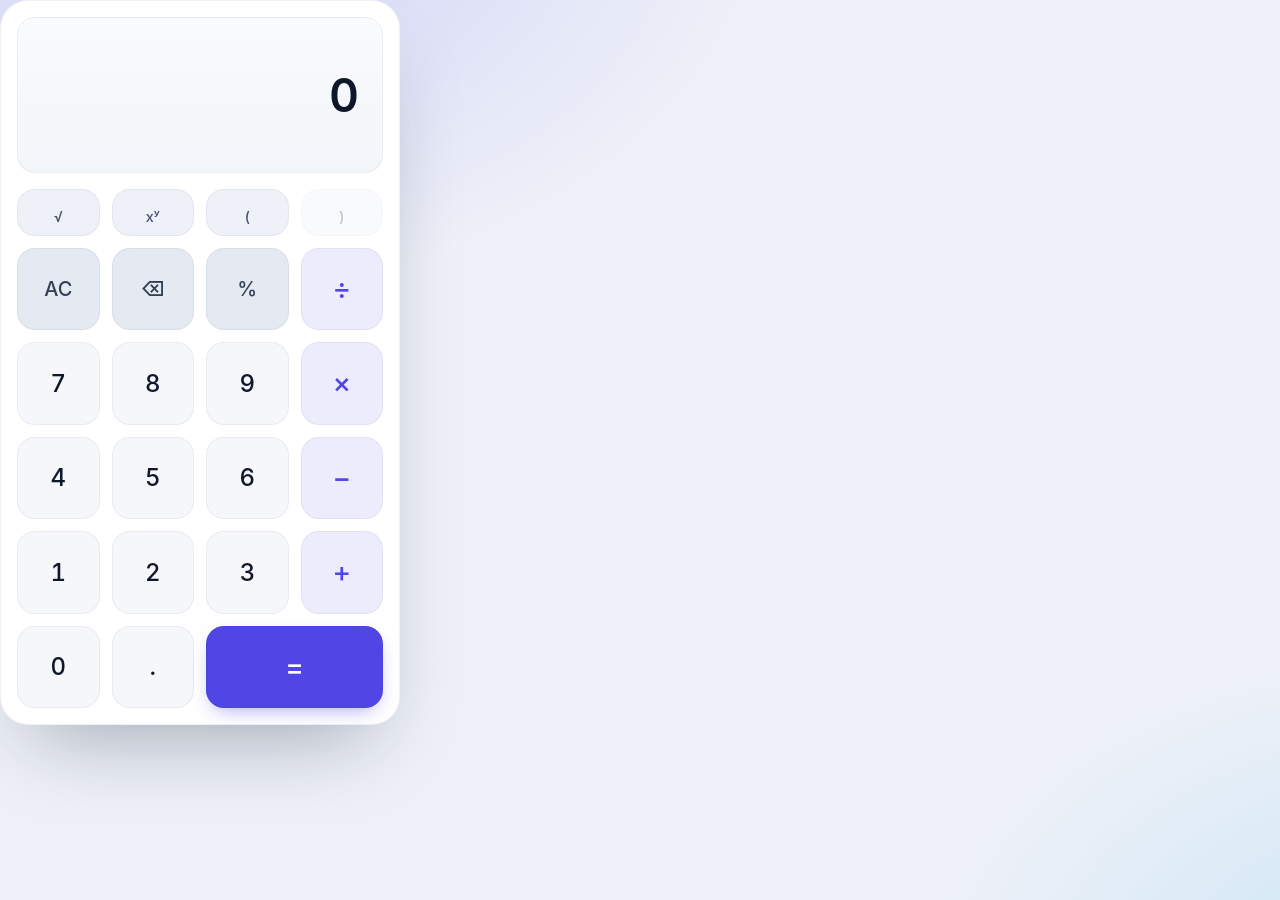
Calculator › composes an expression from key presses and evaluates it
Click the button with test id "digit-2".
click(153, 572)  # box [112,531,194,614]
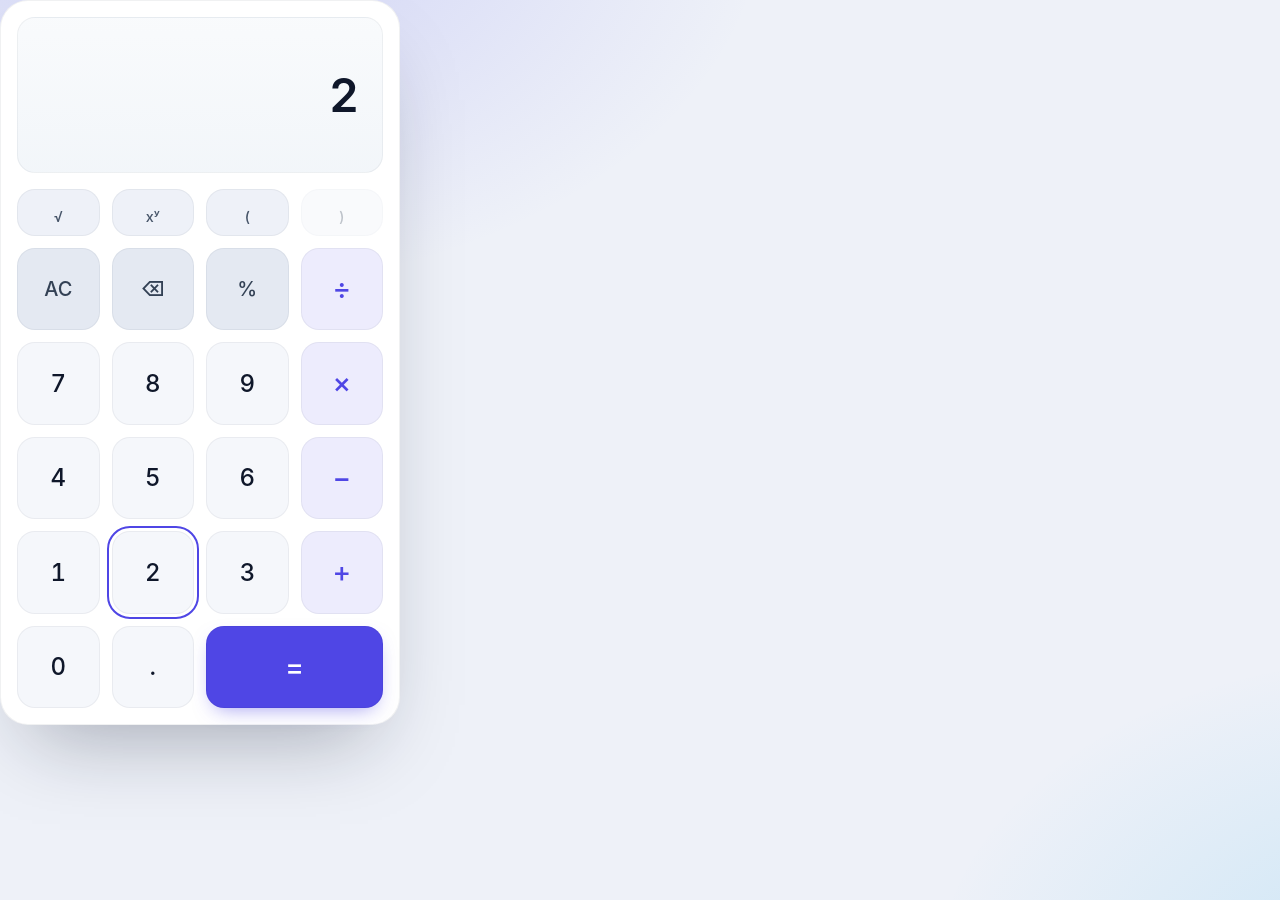
Click the button with test id "add".
click(342, 572)  # box [300,531,383,614]
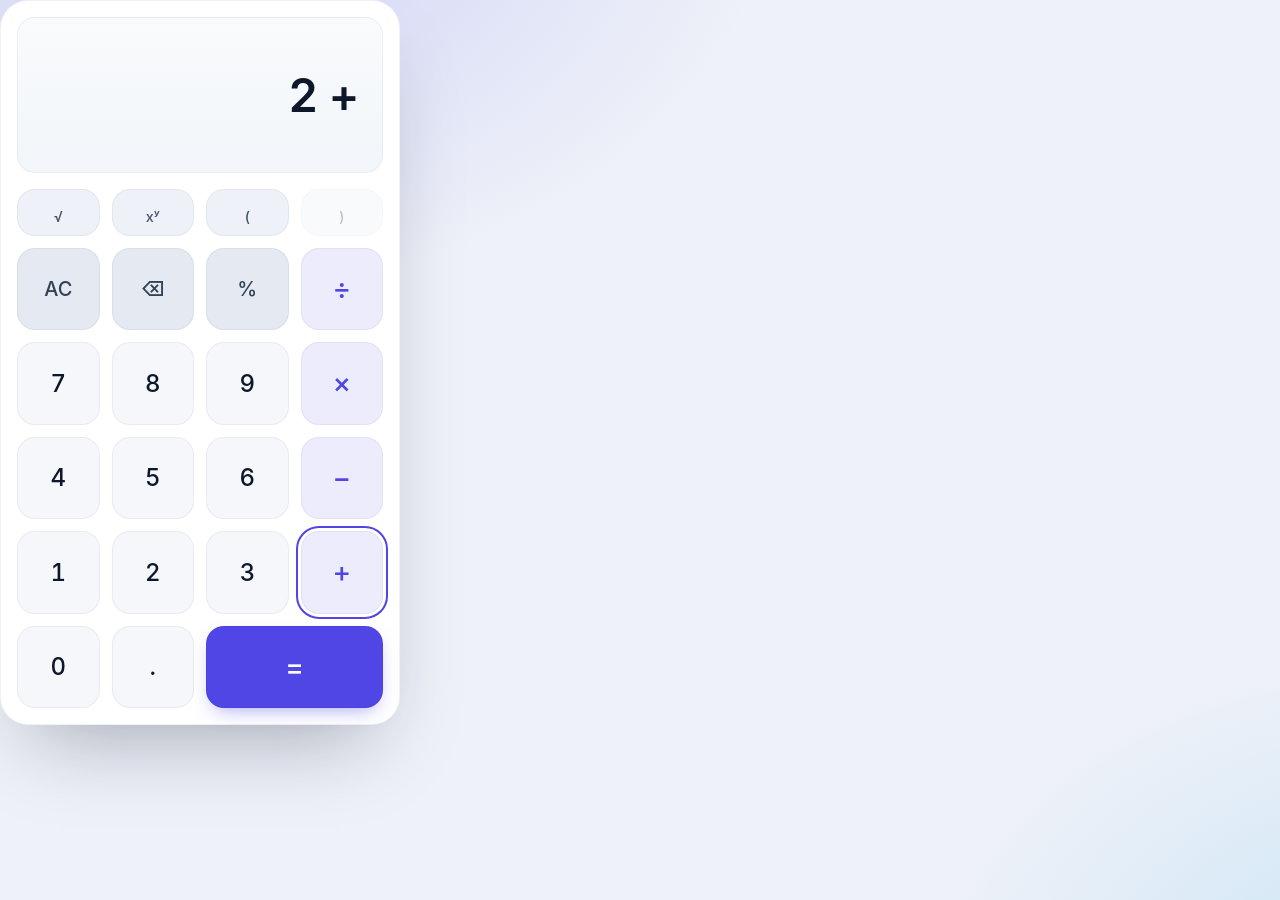
Click the button with test id "digit-3".
click(247, 572)  # box [206,531,288,614]
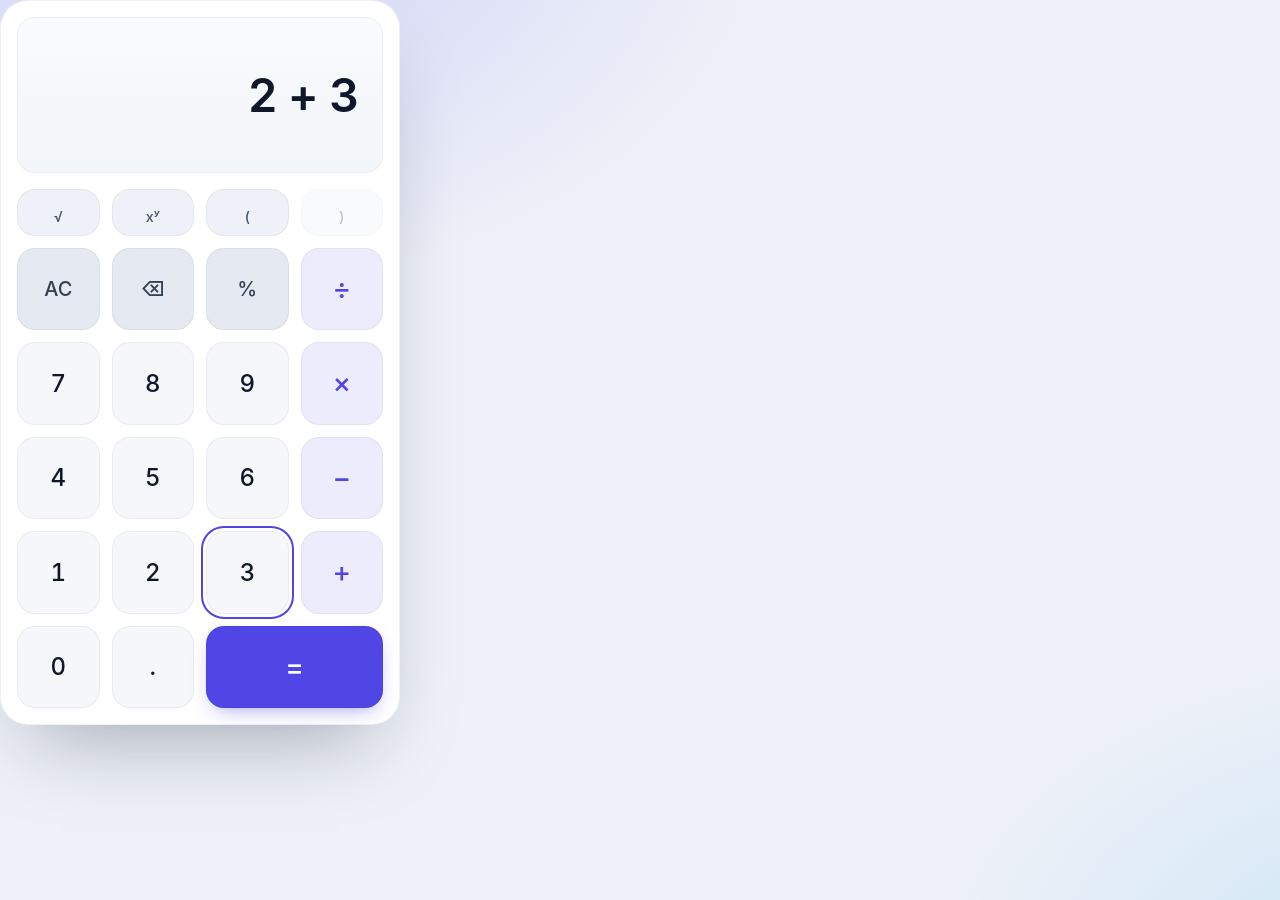
Now the text with test id "display" reads "2 + 3", box [248,67,358,123]
Click the button with test id "equals".
click(294, 667)  # box [206,626,383,708]
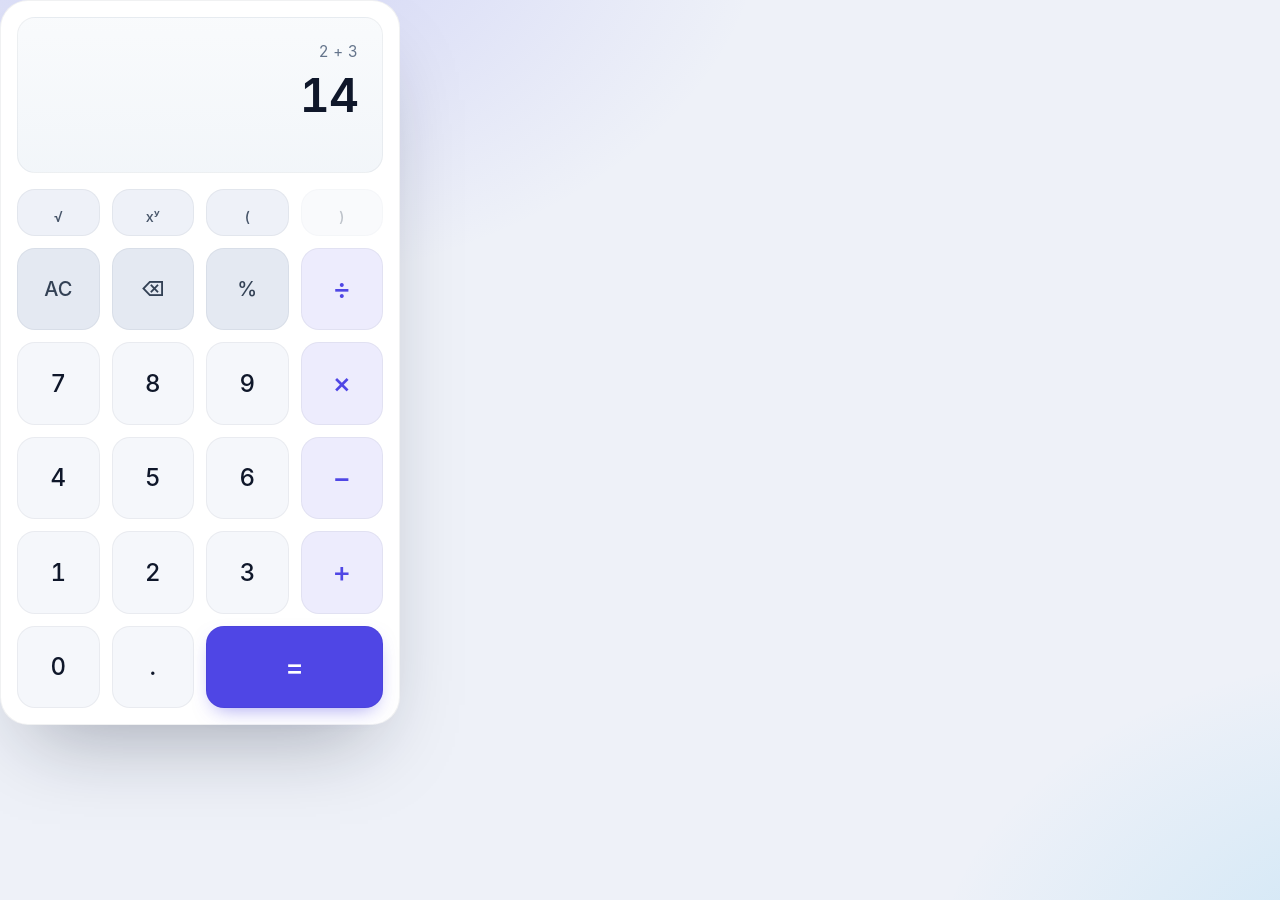
Now the text with test id "display" reads "14", box [300,67,358,123]
